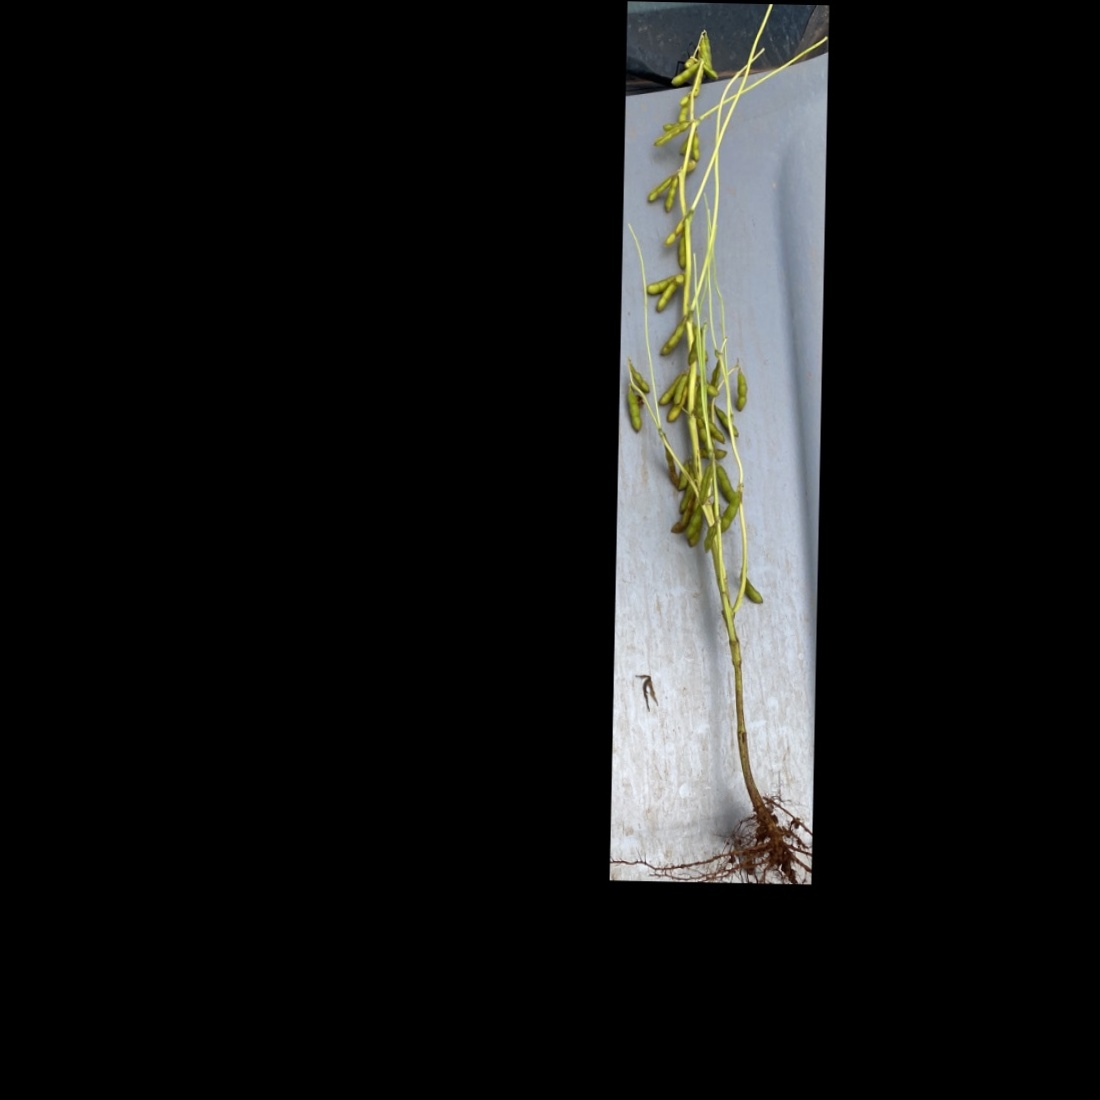pod: (625, 381, 644, 435), (720, 489, 743, 533), (738, 571, 767, 606), (658, 320, 685, 357), (732, 363, 750, 415), (667, 62, 703, 85), (628, 362, 651, 395), (663, 174, 682, 214), (702, 521, 721, 557), (691, 129, 702, 161), (701, 63, 721, 81)
soy: (615, 22, 824, 872)
